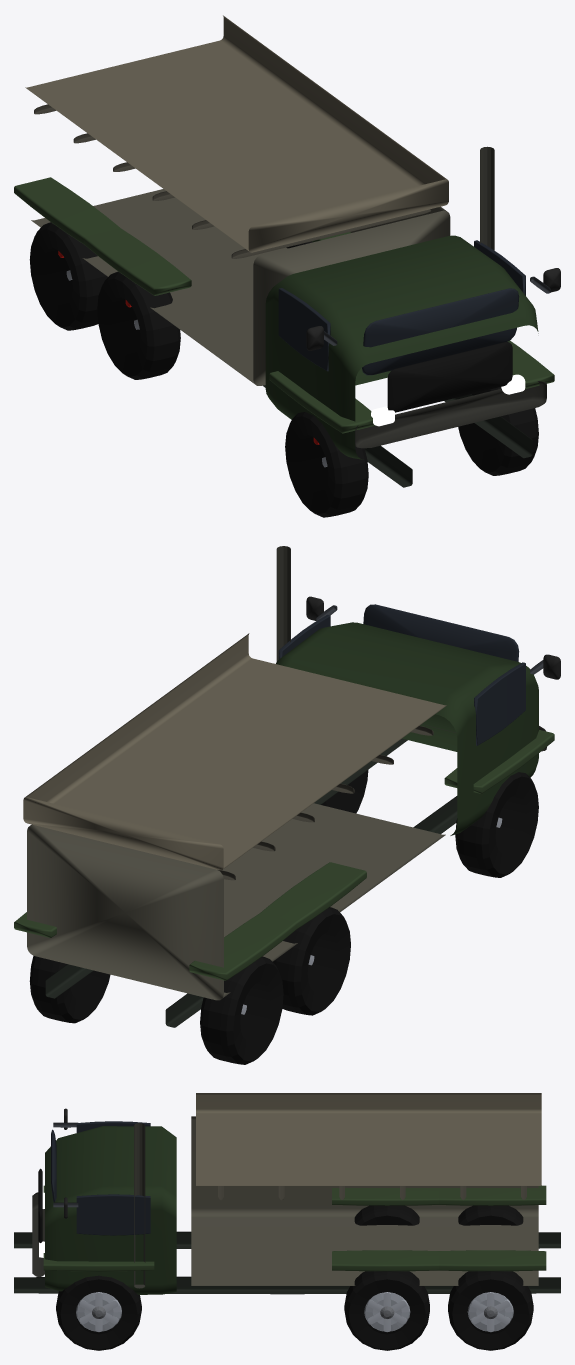
Rendered from ural_4320_truck.glb.
3 views of the same model, one above another, from view 1: azimuth 30°, elevation 25°; view 2: azimuth 150°, elevation 25°; view 3: azimuth 270°, elevation 25° (orthographic). The views are drawn at different scales.
Parts seen in each view (by area): view 1: root, wheelML, wheelFL, wheelRL, wheelFR; view 2: root, wheelRL, wheelML, wheelFL, wheelRR, wheelFR; view 3: root, wheelMR, wheelRR, wheelFR, wheelML, wheelRL.
Boxes of the visible parts, bbox=[...] form: root: bbox=[14, 15, 560, 487]; wheelML: bbox=[97, 271, 180, 379]; wheelFL: bbox=[285, 412, 368, 517]; wheelRL: bbox=[29, 222, 107, 330]; wheelFR: bbox=[458, 387, 538, 475]; root: bbox=[14, 546, 560, 1027]; wheelRL: bbox=[200, 956, 283, 1064]; wheelML: bbox=[273, 907, 350, 1015]; wheelFL: bbox=[455, 772, 538, 877]; wheelRR: bbox=[29, 955, 110, 1023]; wheelFR: bbox=[321, 770, 368, 813]; root: bbox=[14, 1093, 560, 1294]; wheelMR: bbox=[344, 1271, 429, 1350]; wheelRR: bbox=[448, 1271, 533, 1350]; wheelFR: bbox=[56, 1275, 141, 1350]; wheelML: bbox=[354, 1205, 419, 1225]; wheelRL: bbox=[458, 1205, 523, 1225].
Size of the model in its own units: 3.04 by 3.4 by 7.4.
